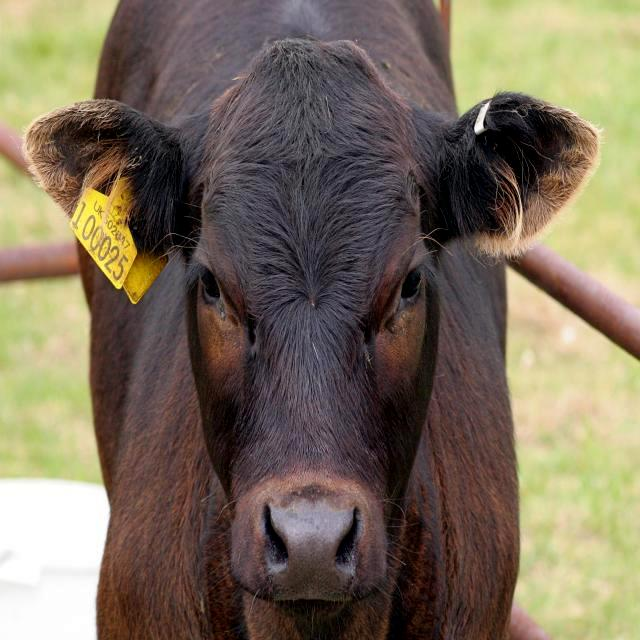COW: (24, 2, 599, 638)
